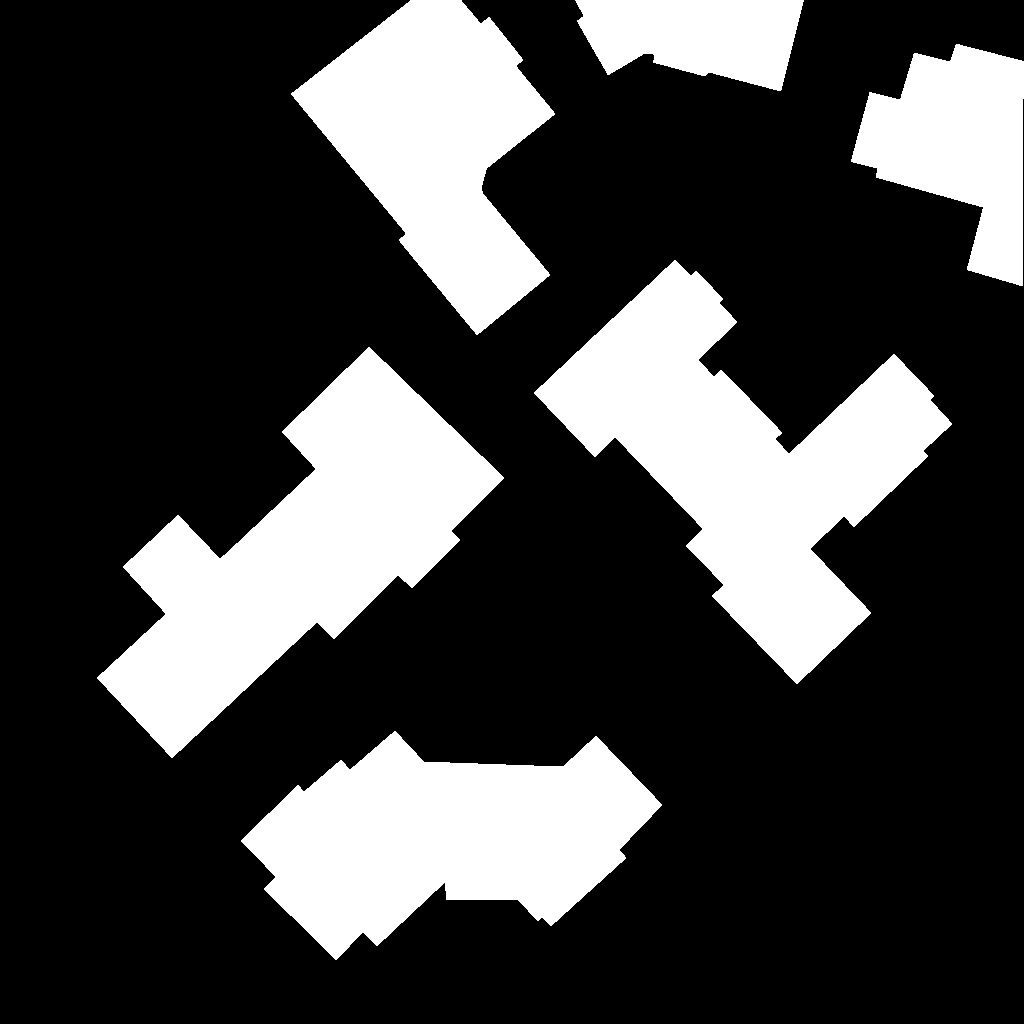building: (534, 260, 953, 685), (97, 347, 505, 759), (241, 731, 663, 961), (291, 0, 556, 336), (851, 44, 1024, 287), (575, 0, 805, 92)
